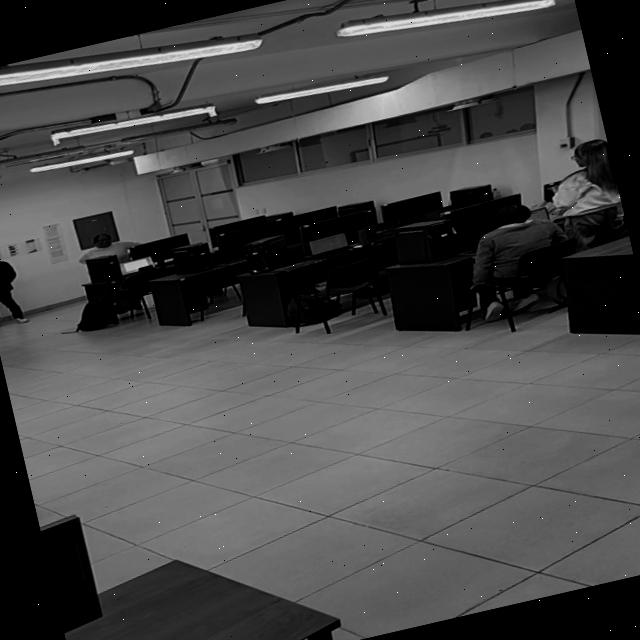Persona: (533, 128, 628, 248), (0, 242, 30, 343), (73, 226, 138, 268)
